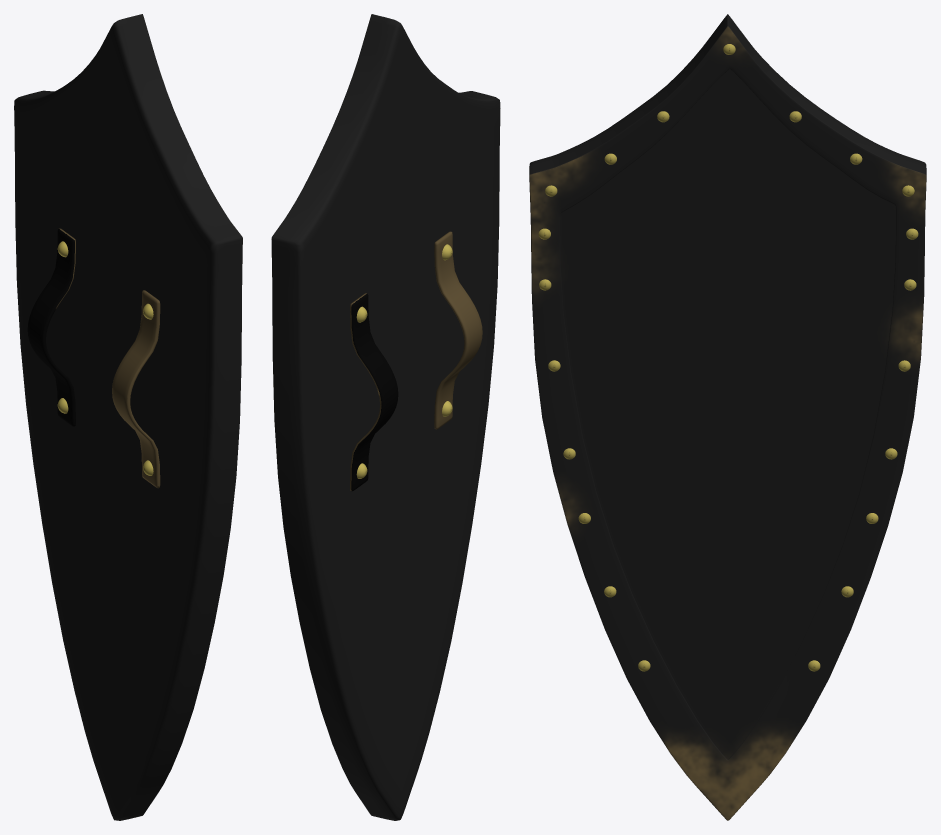
Rendered from shield.fbx.
The picture shows the model from 3 angles, left to right: view 1: azimuth 30°, elevation 25°; view 2: azimuth 150°, elevation 25°; view 3: azimuth 270°, elevation 25°; orthographic projection.
Parts seen in each view (by area): view 1: shield, Cube, Cube.001; view 2: shield, Cube, Cube.001; view 3: shield.
Part boxes in pixels (left/top/right/bottom): shield: left=14, top=14, right=242, bottom=820; Cube: left=112, top=290, right=160, bottom=488; Cube.001: left=27, top=228, right=75, bottom=426; shield: left=271, top=14, right=500, bottom=820; Cube: left=434, top=231, right=482, bottom=429; Cube.001: left=350, top=293, right=398, bottom=491; shield: left=529, top=14, right=926, bottom=820.
Bounding box in the file's own units: 44.67 × 514 × 233.
Materials: 3 (3 with a texture image).
